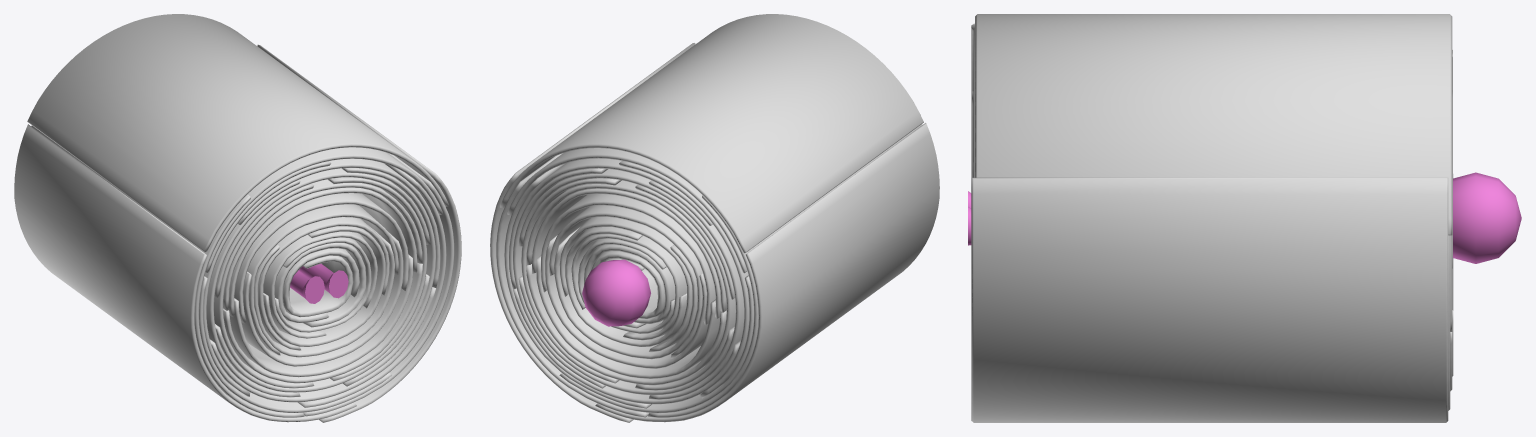
The model's file is huton3(31).FBX.
3 views of the same model, side by side, from view 1: azimuth 30°, elevation 25°; view 2: azimuth 150°, elevation 25°; view 3: azimuth 270°, elevation 25° (orthographic). The views are drawn at different scales.
Parts seen in each view (by area): view 1: huton1; view 2: huton1; view 3: huton1.
Part boxes in pixels (x1,y1,x2,y2): huton1: (14,14,461,422); huton1: (490,14,939,422); huton1: (968,14,1521,422).
Bounding box in the file's own units: 137 × 132 × 181.
